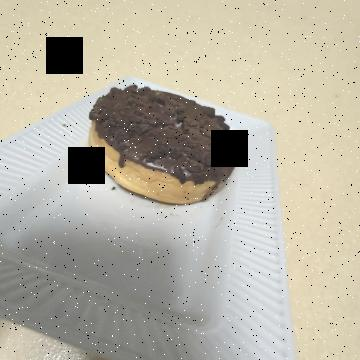doughnut: (68, 108, 216, 284)
